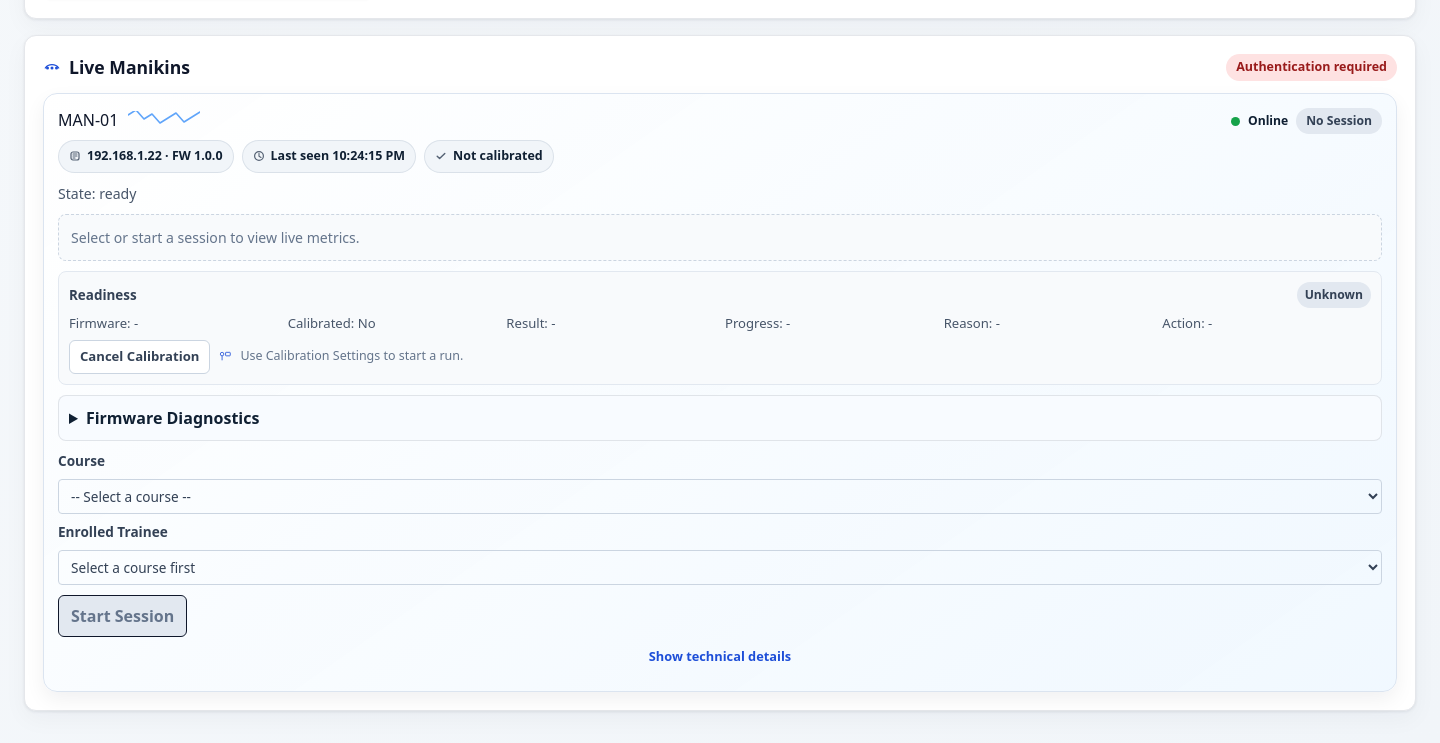
InstructorDashboard › resets the enrolled trainee when the course changes
The width and height of the screenshot is (1440, 743).
(page scrolled)
Select "CPR-101 - CPR Fundamentals" in the dropdown labelled "Course" at (720, 496), box [58,479,1382,514]
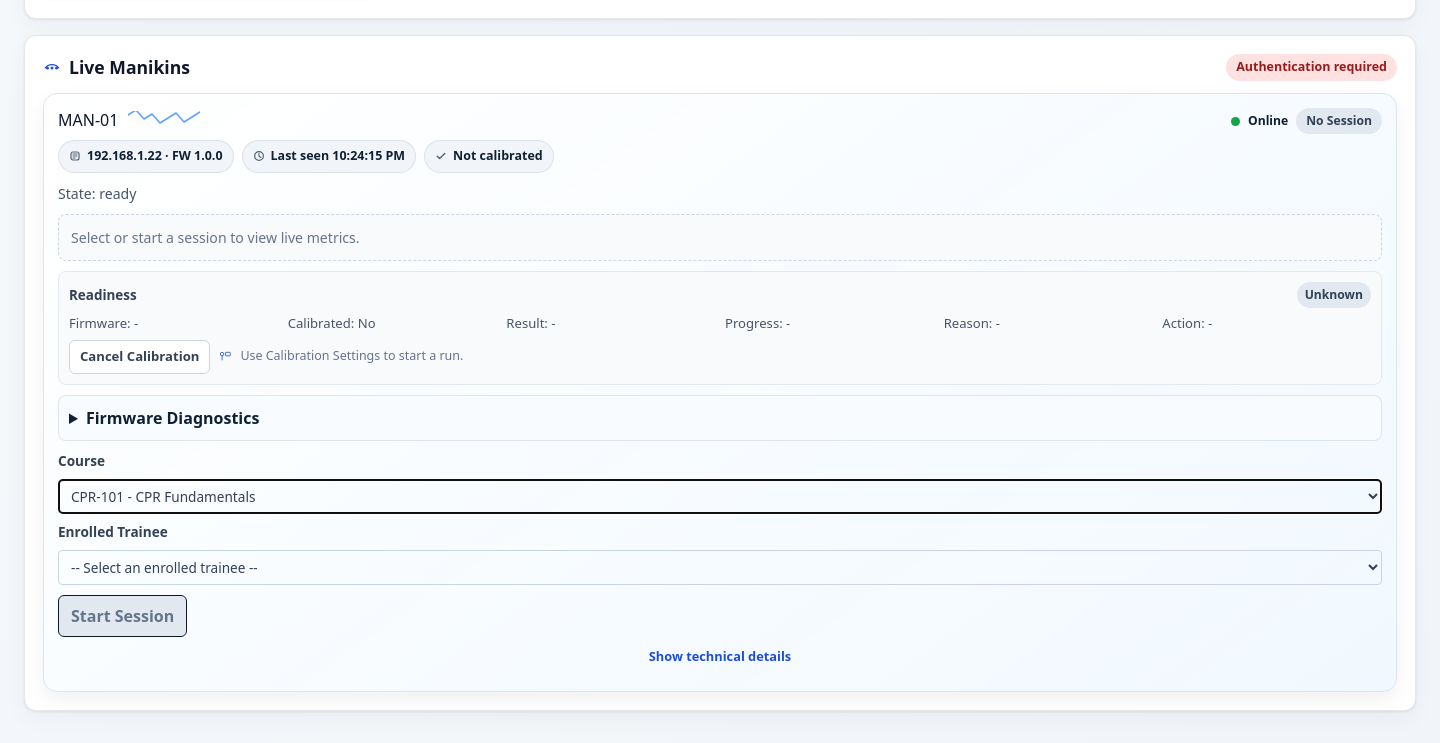
Select "First Trainee" in the dropdown labelled "Enrolled Trainee" at (720, 568), box [58,550,1382,585]
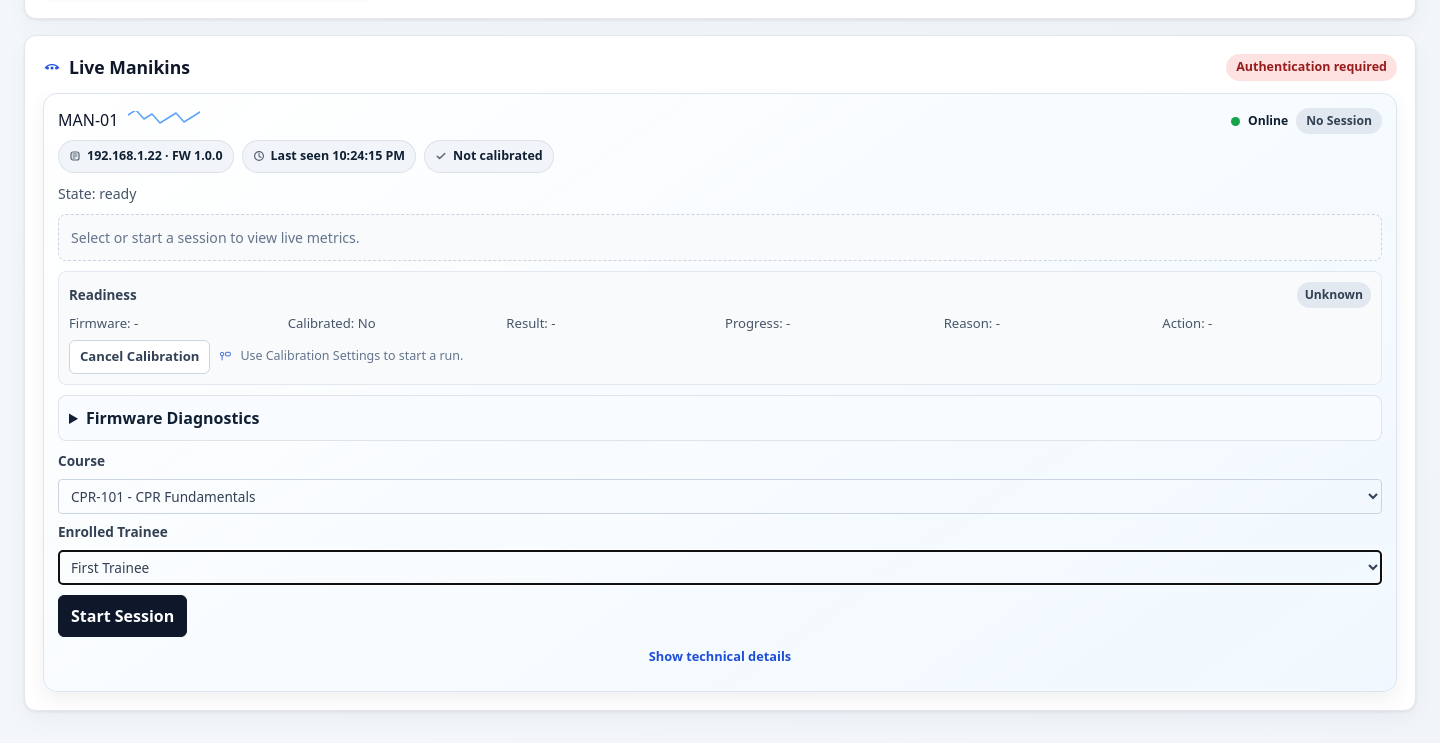
Select "CPR-202 - Advanced CPR" in the dropdown labelled "Course" at (720, 496), box [58,479,1382,514]
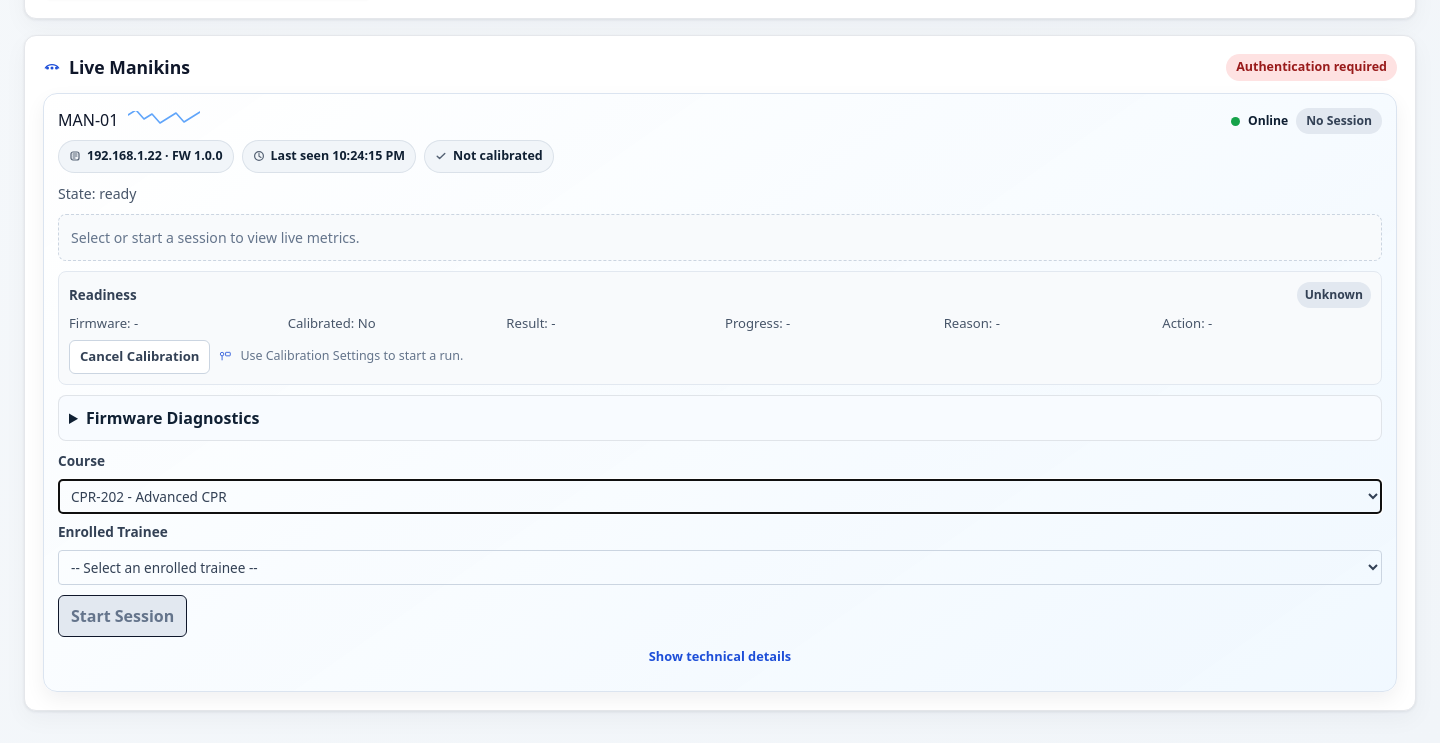
Expected: the button "Start Session" is disabled, [58,595,187,637]
